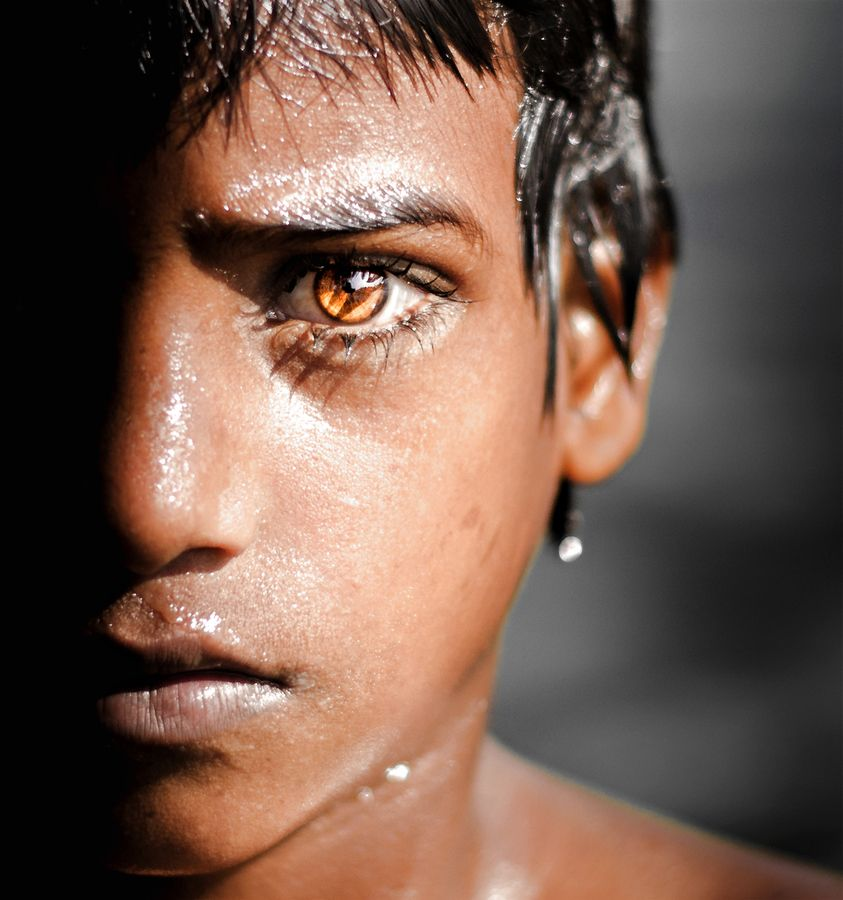iris: (313, 258, 391, 324)
pupil: (340, 275, 358, 293)
